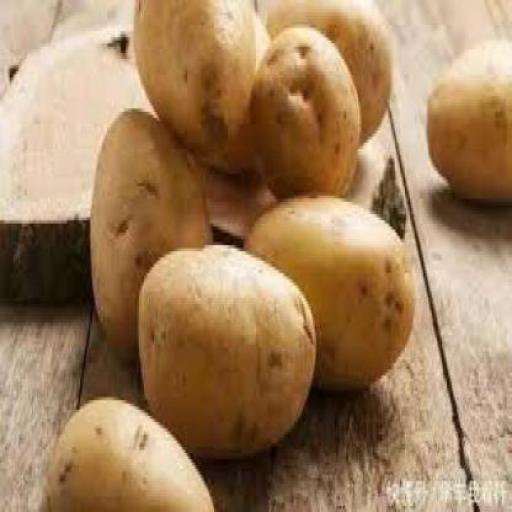biodegradable: (135, 242, 315, 456), (240, 186, 416, 388), (88, 106, 210, 351), (127, 0, 259, 171), (248, 18, 360, 196), (45, 394, 212, 509), (263, 0, 392, 143), (424, 37, 510, 202)
